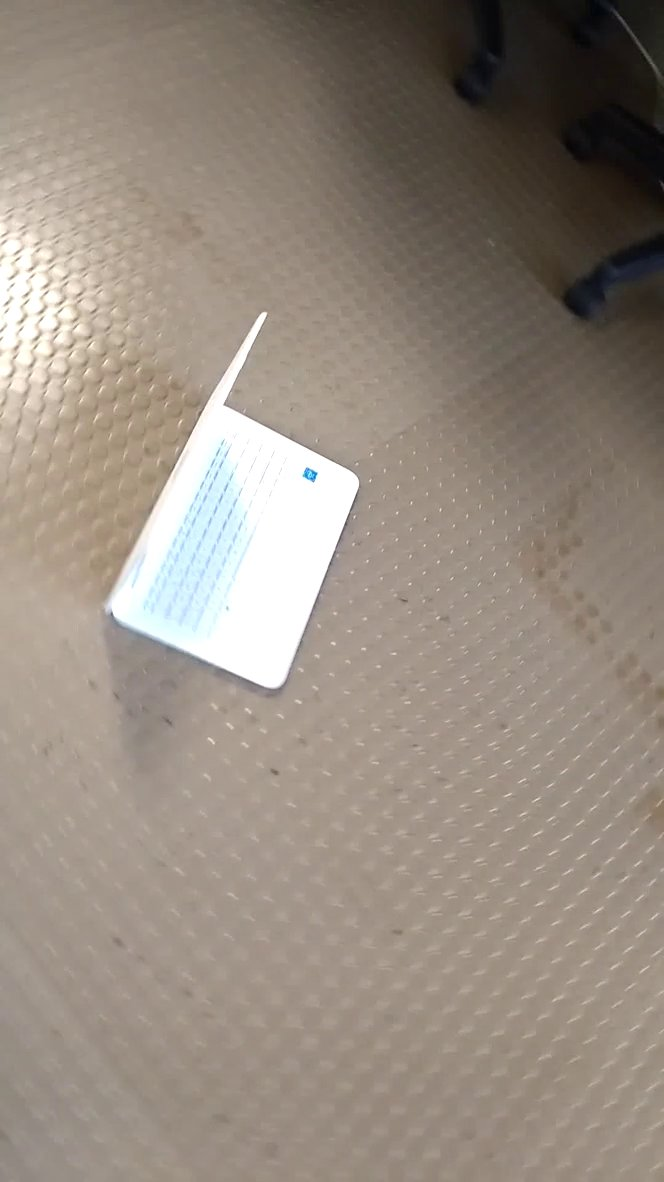laptop: (99, 297, 373, 707)
